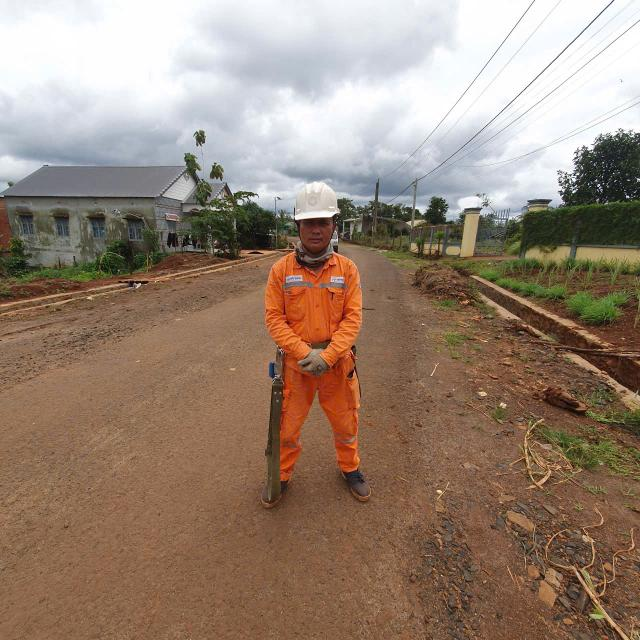gloves: (299, 348, 341, 368), (303, 357, 337, 380)
harness: (268, 333, 377, 352)
helmet: (272, 179, 357, 223)
shoes: (333, 457, 395, 511), (239, 472, 295, 504)
